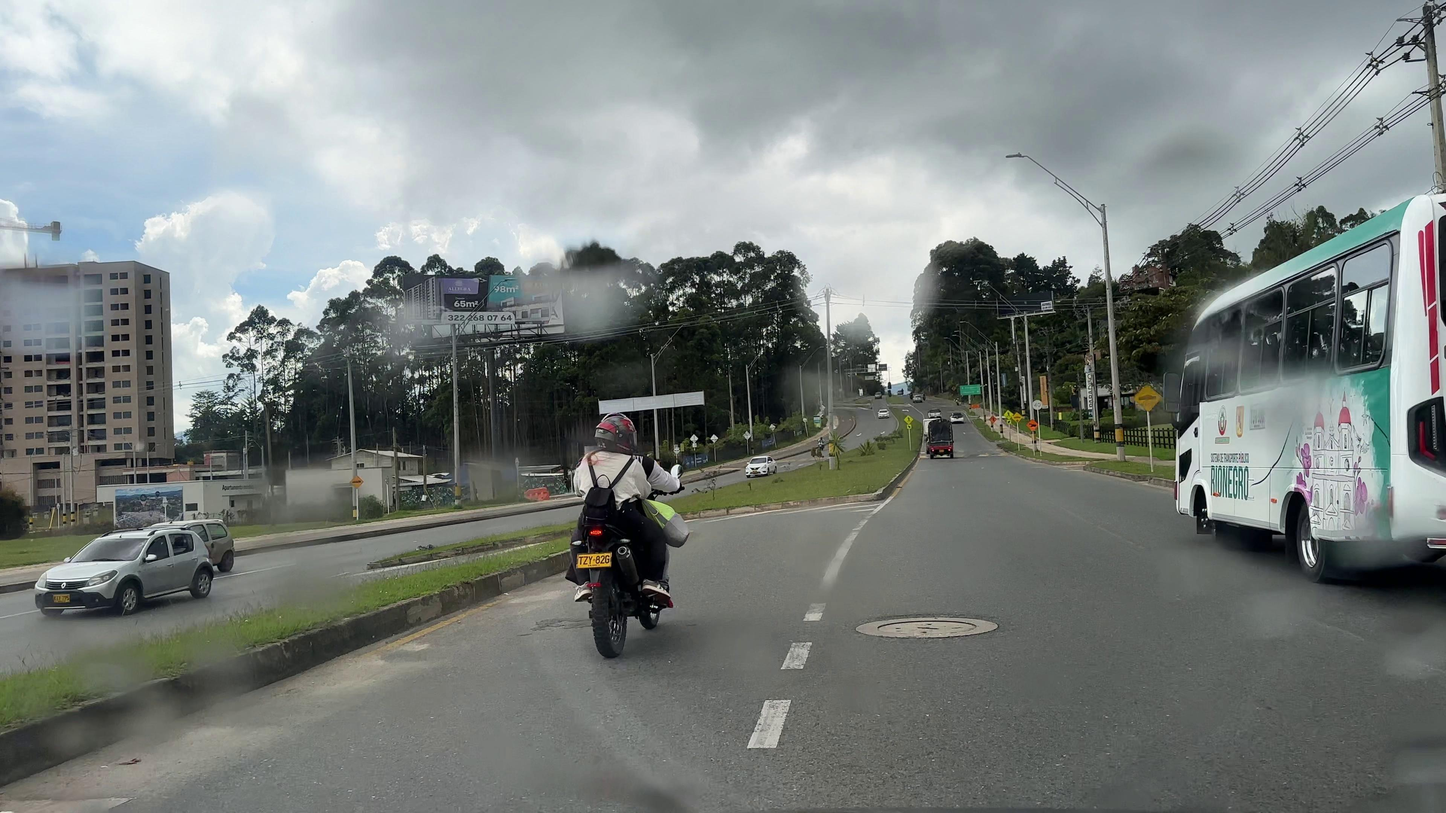bache: (531, 616, 590, 631)
registro: (877, 620, 977, 635)
